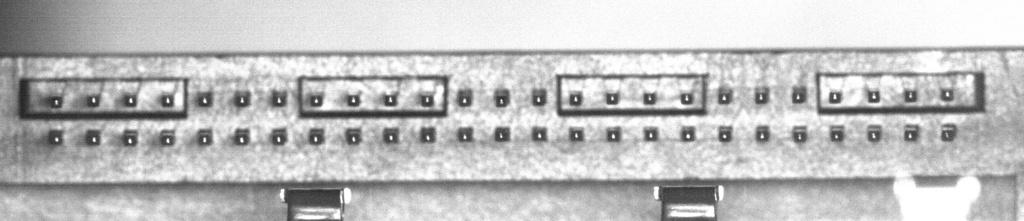pin_ok: (494, 88, 511, 107), (531, 87, 547, 106), (940, 124, 957, 141), (234, 127, 250, 145), (457, 88, 473, 106), (271, 89, 287, 107), (382, 127, 399, 143), (271, 128, 287, 145), (420, 126, 437, 142), (791, 86, 807, 103), (754, 87, 770, 104), (159, 129, 175, 146), (196, 91, 213, 107), (419, 91, 436, 107), (457, 126, 473, 142), (308, 128, 324, 144), (717, 126, 733, 142), (829, 126, 845, 142), (345, 128, 361, 144), (85, 129, 101, 145), (866, 126, 882, 142), (717, 87, 733, 103), (904, 124, 919, 141), (123, 129, 138, 146), (48, 131, 64, 146), (531, 126, 547, 141), (494, 126, 510, 141), (755, 126, 770, 142), (197, 129, 212, 145), (792, 126, 807, 142), (569, 127, 584, 142), (643, 126, 658, 141), (606, 127, 621, 141), (681, 126, 695, 141), (568, 91, 582, 106), (642, 91, 657, 105), (346, 92, 361, 106), (160, 93, 175, 107), (384, 91, 398, 106), (86, 93, 101, 107), (605, 91, 620, 105), (904, 88, 918, 102), (235, 92, 249, 106), (309, 93, 323, 107), (679, 92, 694, 105), (940, 88, 955, 101), (828, 90, 842, 103), (867, 89, 880, 102), (124, 94, 137, 107), (49, 96, 62, 108)
